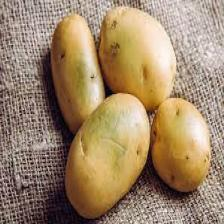Defected potato: (62, 92, 151, 222), (96, 3, 180, 117), (49, 10, 109, 142), (149, 97, 213, 194)
